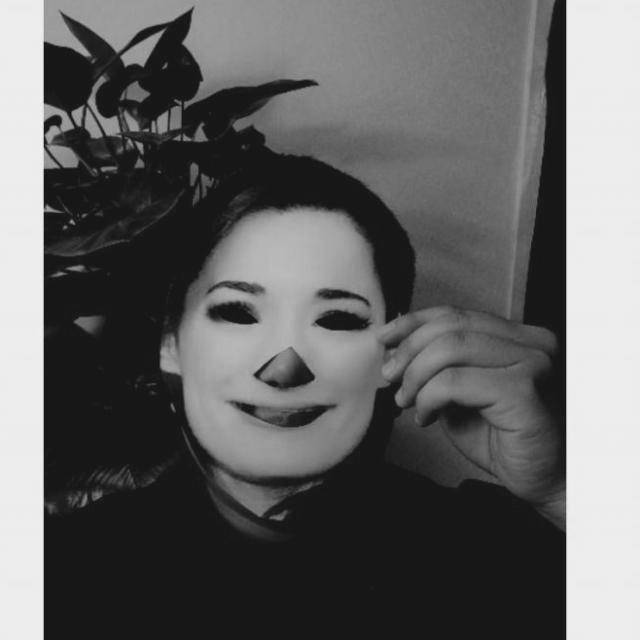fake: (158, 176, 414, 520)
